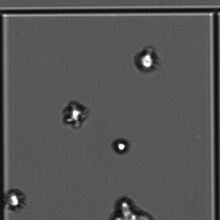Living Cell: (4, 187, 27, 213), (63, 101, 86, 127), (135, 47, 158, 73), (111, 136, 130, 156)
